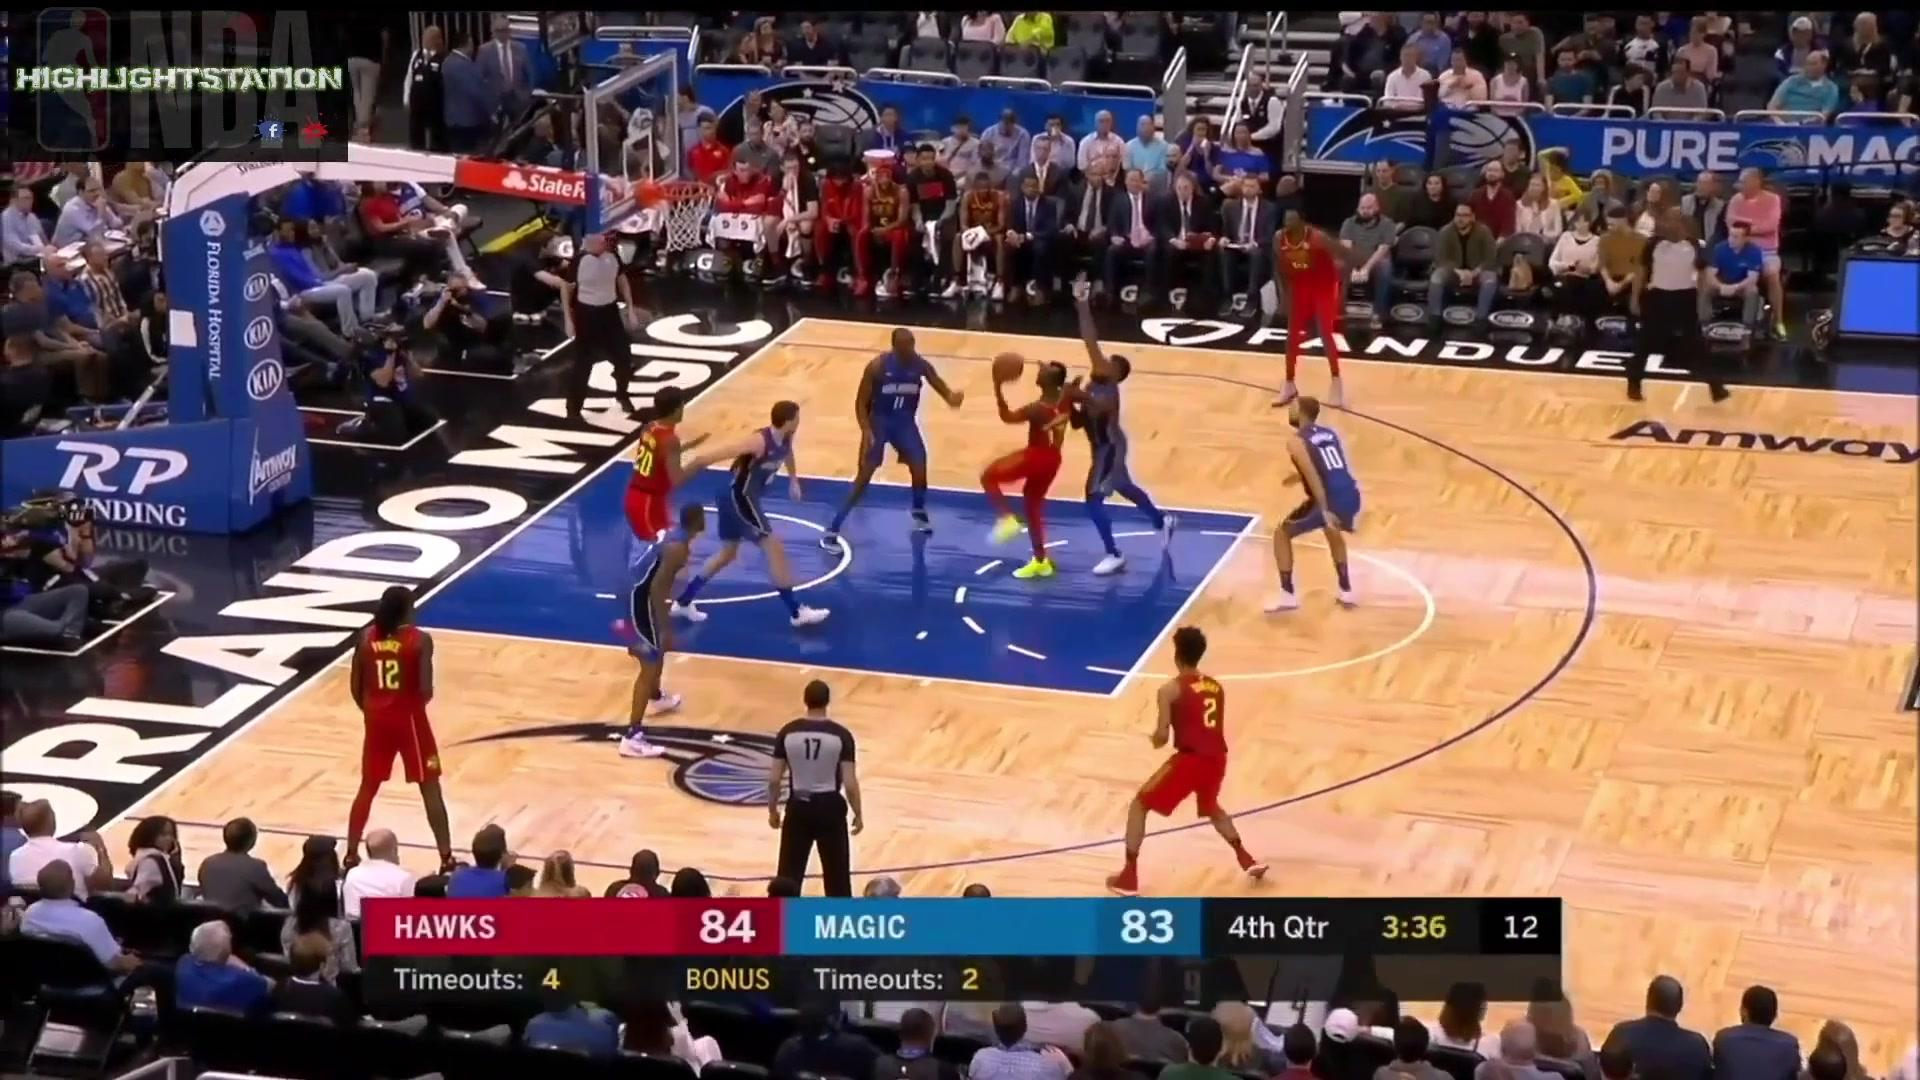no_foul: (972, 336, 1162, 584)
